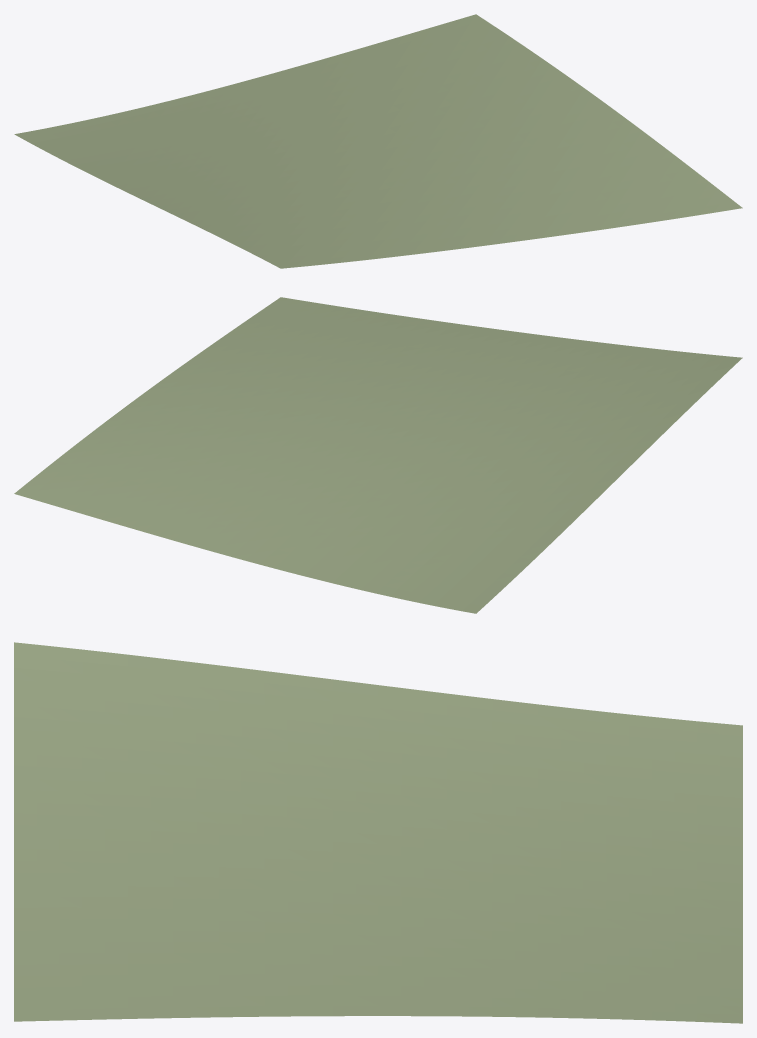
Rendered from alpine-13-0.glb.
3 views of the same model, one above another, from view 1: azimuth 30°, elevation 25°; view 2: azimuth 150°, elevation 25°; view 3: azimuth 270°, elevation 25° (orthographic). The views are drawn at different scales.
Parts seen in each view (by area): view 1: alpine-13-0; view 2: alpine-13-0; view 3: alpine-13-0.
Part boxes in pixels (x1,y1,x2,y2): alpine-13-0: (14,14,742,268); alpine-13-0: (14,297,742,613); alpine-13-0: (14,642,742,1023).
Bounding box in the file's own units: 256 × 34.61 × 256.
